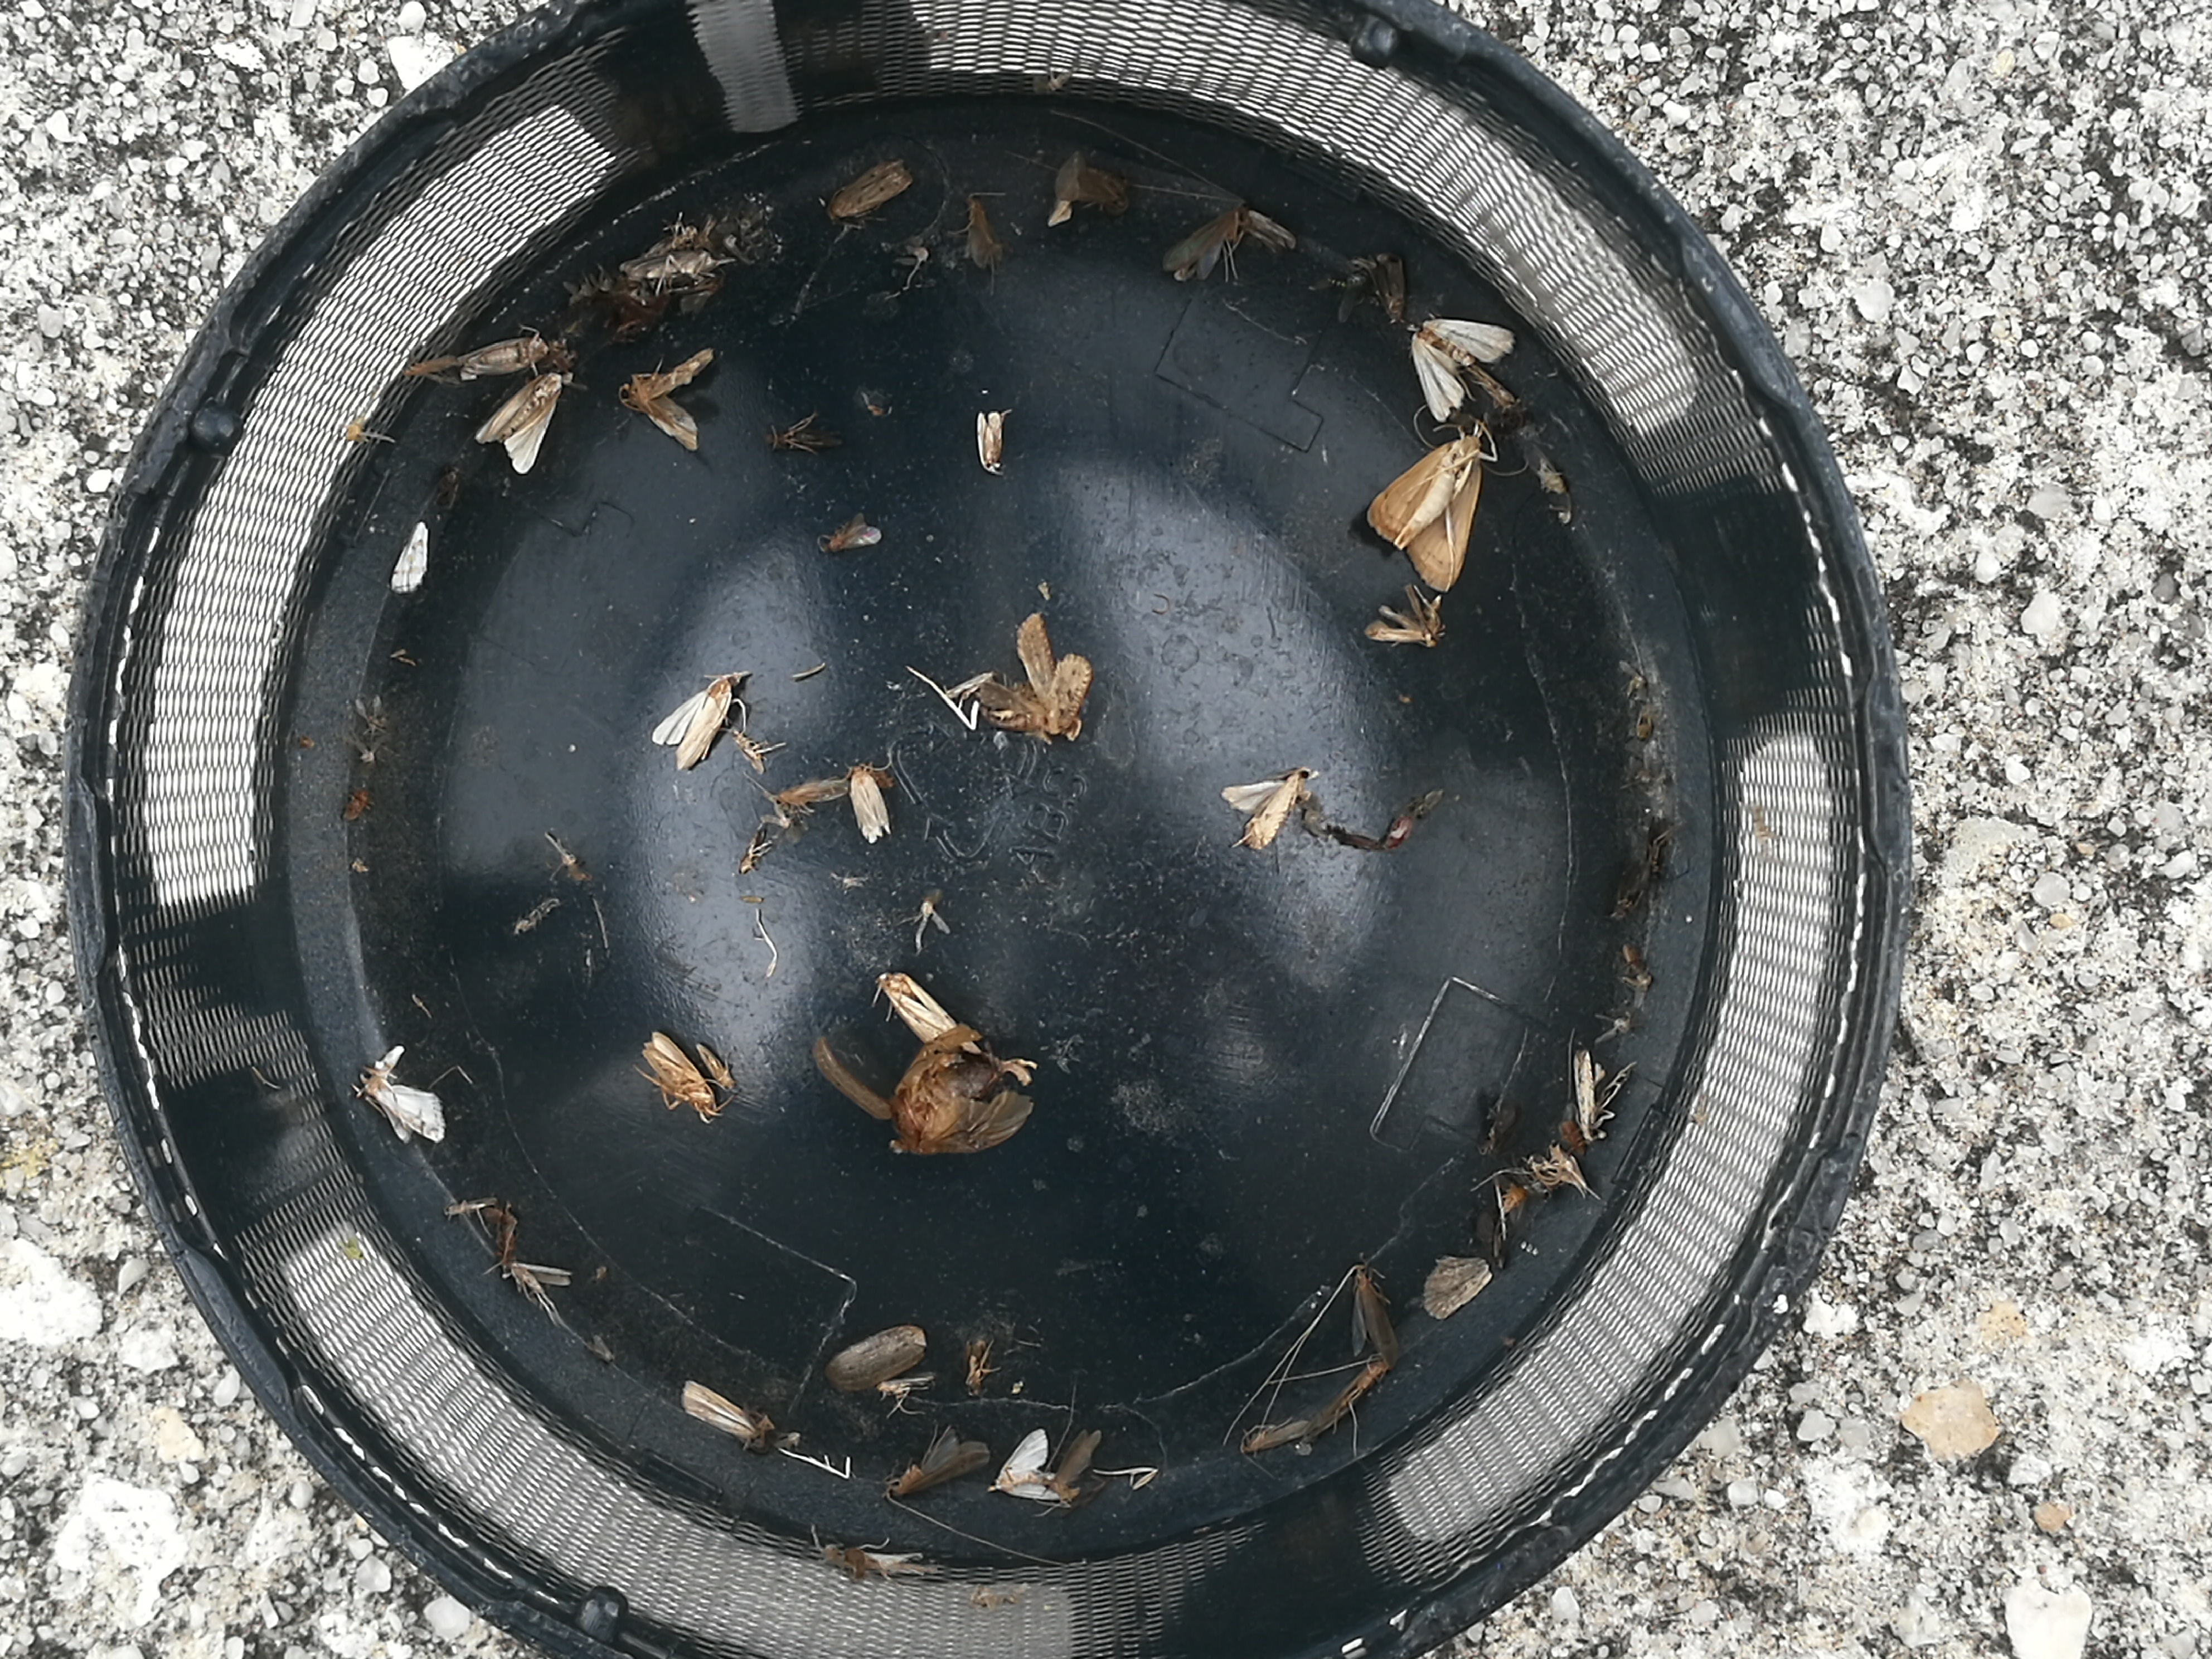beetle: (895, 1054, 996, 1152)
mosquito: (892, 1427, 988, 1499), (1167, 202, 1244, 284), (1317, 1358, 1386, 1434), (1352, 1267, 1392, 1352), (848, 769, 890, 842), (1242, 1417, 1310, 1452), (970, 195, 998, 272), (698, 1044, 738, 1094), (775, 781, 846, 807), (1576, 1053, 1597, 1140), (826, 519, 878, 551), (979, 410, 1003, 471)
moth: (1366, 436, 1482, 594), (982, 615, 1092, 734), (1413, 319, 1512, 422), (622, 350, 712, 451), (479, 371, 561, 472), (1224, 769, 1320, 849), (655, 680, 732, 769), (364, 1072, 446, 1145), (644, 1033, 712, 1115), (831, 160, 914, 220), (878, 969, 948, 1037), (996, 1429, 1062, 1500)
